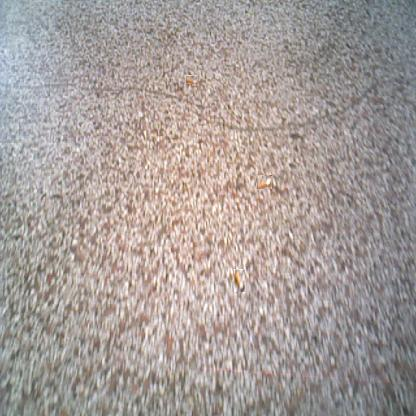dirty: (233, 269, 245, 292), (256, 175, 272, 189), (185, 75, 198, 84)
